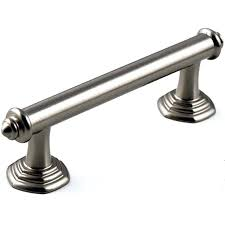handle: (6, 30, 221, 197)
